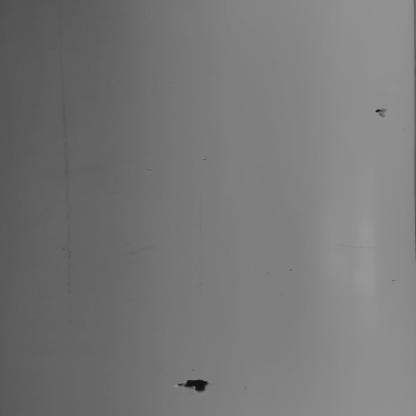kongdong: (147, 338, 241, 406), (367, 101, 396, 118)
